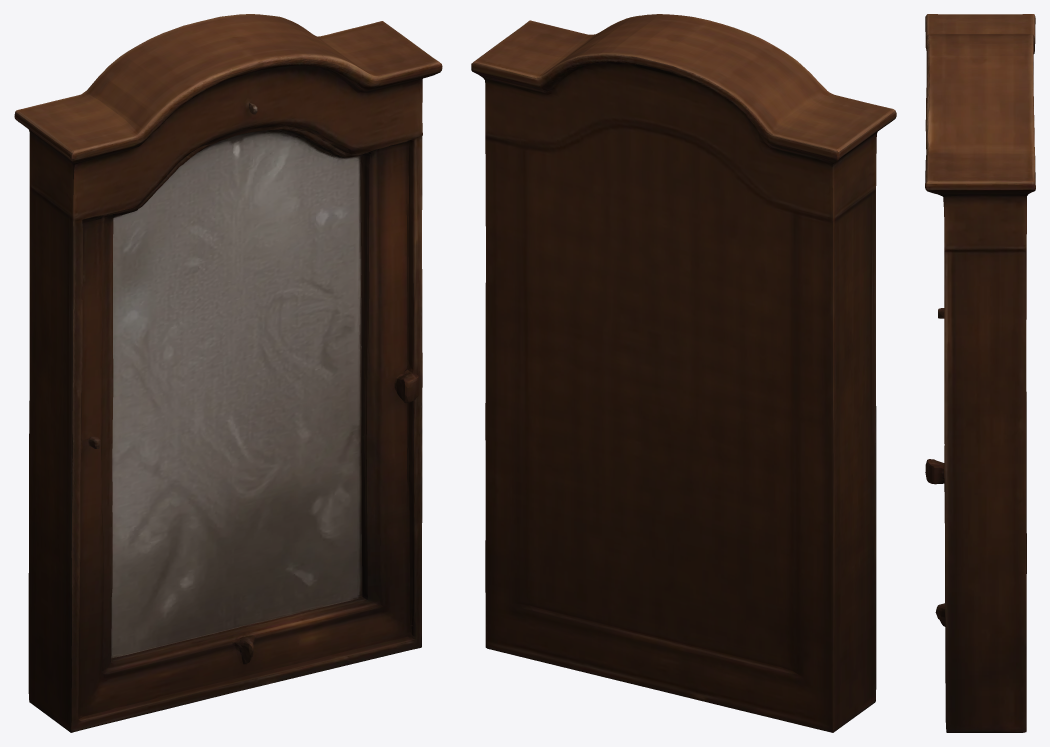
The model's file is mirror.glb.
The picture shows the model from 3 angles, left to right: view 1: azimuth 30°, elevation 25°; view 2: azimuth 150°, elevation 25°; view 3: azimuth 270°, elevation 25°; orthographic projection. The views are drawn at different scales.
Visible parts, largest first — view 1: geometry_0; view 2: geometry_0; view 3: geometry_0.
Boxes of the visible parts, x1=… form: geometry_0: x1=14, y1=14, x2=442, y2=732; geometry_0: x1=471, y1=14, x2=896, y2=732; geometry_0: x1=925, y1=14, x2=1035, y2=732.
Size of the model in its own units: 0.6099 by 1 by 0.1682.
Materials: 1 (1 with a texture image).
